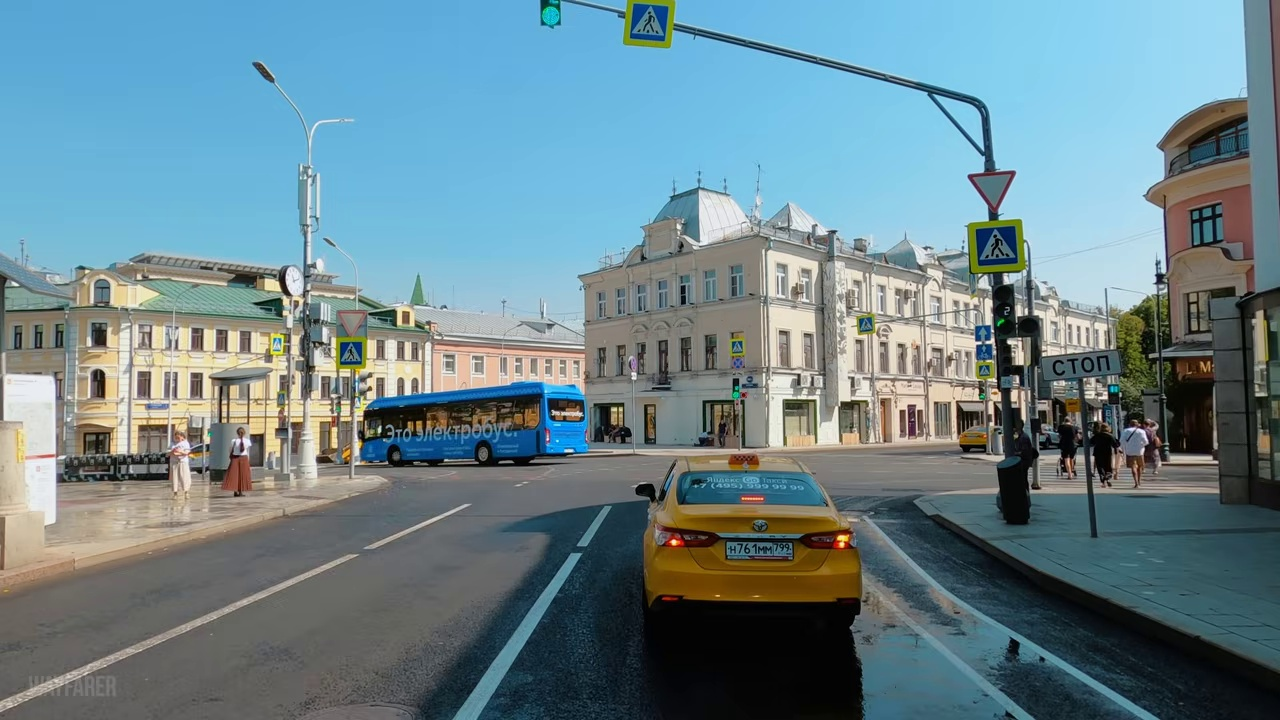apagada: (249, 59, 277, 88)
